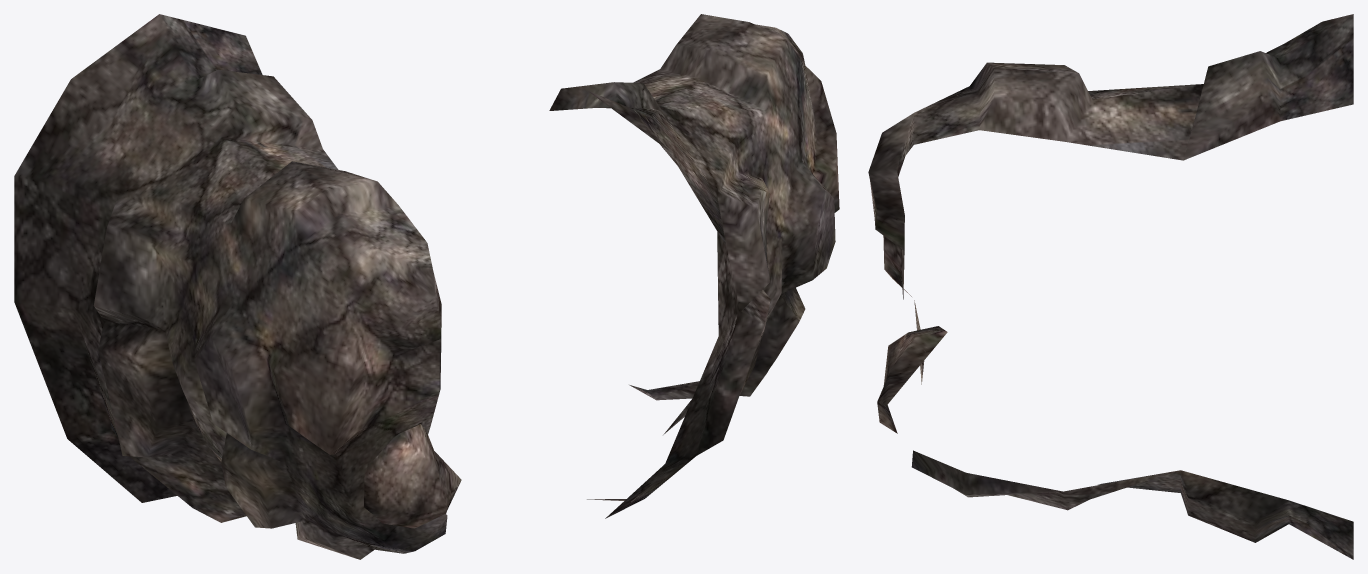
3 views of the same model, side by side, from view 1: azimuth 30°, elevation 25°; view 2: azimuth 150°, elevation 25°; view 3: azimuth 270°, elevation 25° (orthographic). The views are drawn at different scales.
Visible parts, largest first — view 1: model_Object15; view 2: model_Object15; view 3: model_Object15.
Boxes of the visible parts, x1,y1,x2,y2 form: model_Object15: [14, 14, 461, 559]; model_Object15: [549, 14, 839, 518]; model_Object15: [868, 14, 1353, 559].
Size of the model in its own units: 2.4 by 4.52 by 3.85.
Materials: 1 (1 with a texture image).
